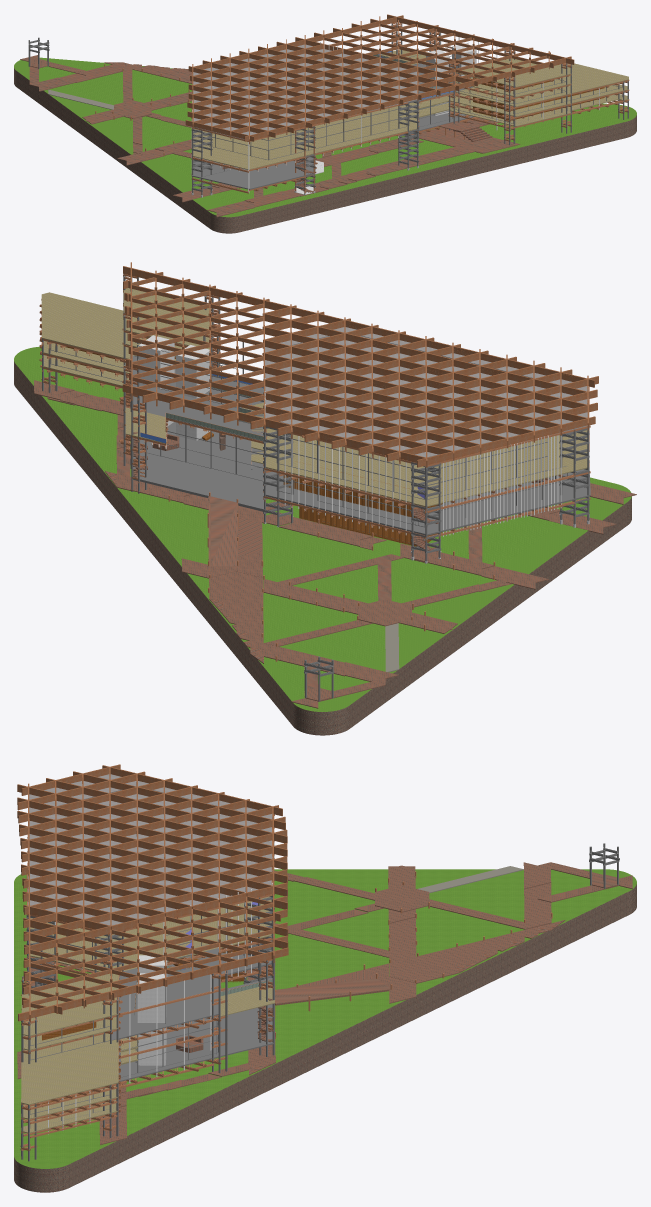
File: GLB06.glb
3 renders of one model, top to bottom at view 1: azimuth 30°, elevation 25°; view 2: azimuth 150°, elevation 25°; view 3: azimuth 270°, elevation 25°, orthographic. The views are drawn at different scales.
Bounding box in the file's own units: 140 × 27.84 × 119.
Materials: 20 (15 with a texture image).
